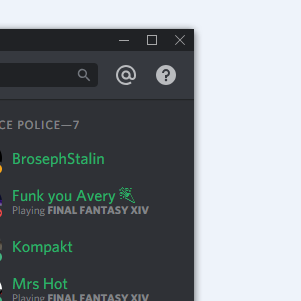close: (167, 28, 193, 51)
